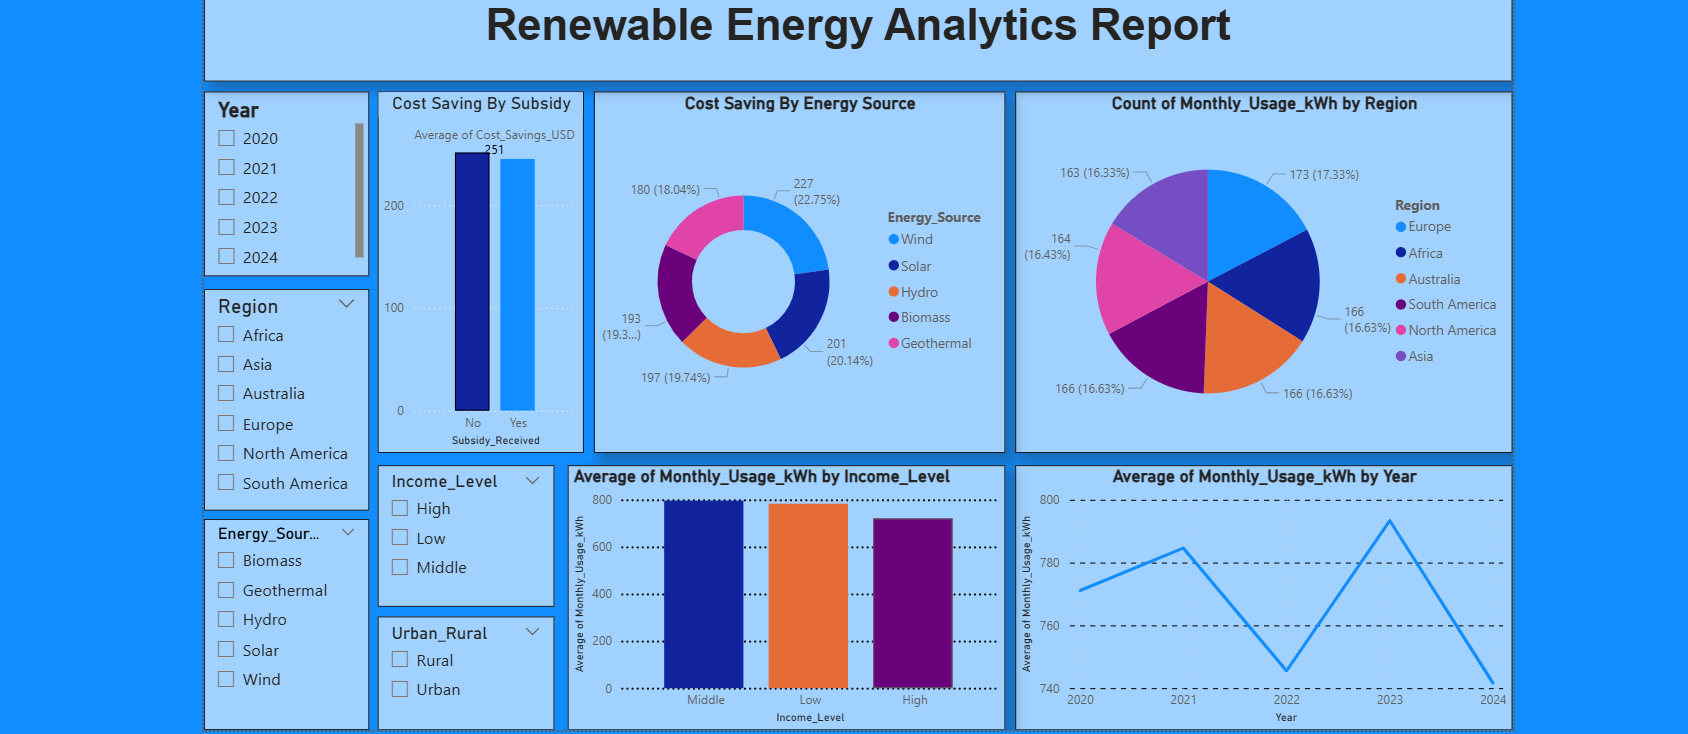

This screenshot's page, from the dashboard's own definition file:
{"tool":"powerbi","page":{"name":"Renewable Enegry Analytics Report","canvas":[1280,720],"ordinal":0},"visuals":[{"type":"slicer","fields":{"Values":["Renewable_Energy_Usage_Sampled.Year"]},"box":[0,95.4,161.4,181],"z":0},{"type":"slicer","fields":{"Values":["Renewable_Energy_Usage_Sampled.Region"]},"box":[0,288.6,161.4,216.4],"z":1000},{"type":"slicer","fields":{"Values":["Renewable_Energy_Usage_Sampled.Energy_Source"]},"box":[0,513.6,161.4,206.7],"z":2000},{"type":"slicer","fields":{"Values":["Renewable_Energy_Usage_Sampled.Income_Level"]},"box":[170,461,172.4,138.2],"z":3000},{"type":"slicer","fields":{"Values":["Renewable_Energy_Usage_Sampled.Urban_Rural"]},"box":[170,609,172.4,111.3],"z":4000},{"type":"pieChart","fields":{"Category":["Renewable_Energy_Usage_Sampled.Region"],"Y":["Count(Renewable_Energy_Usage_Sampled.Monthly_Usage_kWh)"]},"box":[793.6,95.4,486.7,353.4],"z":5000},{"type":"donutChart","title":"Cost Saving By Energy Source","fields":{"Category":["Renewable_Energy_Usage_Sampled.Energy_Source"],"Y":["Count(Renewable_Energy_Usage_Sampled.Cost_Savings_USD)"]},"box":[381.5,95.4,402.3,353.4],"z":6000},{"type":"lineChart","fields":{"Y":["Avg(Renewable_Energy_Usage_Sampled.Monthly_Usage_kWh)"],"Category":["Renewable_Energy_Usage_Sampled.Year"]},"box":[793.6,461,486.7,259.2],"z":7000},{"type":"clusteredColumnChart","fields":{"Category":["Renewable_Energy_Usage_Sampled.Income_Level"],"Y":["Avg(Renewable_Energy_Usage_Sampled.Monthly_Usage_kWh)"]},"box":[355.8,461,428,259.2],"z":8000},{"type":"textbox","box":[0,0,1280.3,85.6],"z":9000},{"type":"columnChart","title":"Cost Saving By Subsidy","fields":{"Category":["Renewable_Energy_Usage_Sampled.Subsidy_Received"],"Y":["Avg(Renewable_Energy_Usage_Sampled.Cost_Savings_USD)"]},"box":[170,95.4,201.8,353.4],"z":10000}]}

Visuals, with their boxes on the page's 1280x720 design canvas (x1, y1, x2, y2). These are canvas units, not pixel positions in the 1688x734 screenshot, which may show the page scaled, cropped or inside an application window:
slicer - Renewable_Energy_Usage_Sampled.Year: [0, 95, 161, 276]
slicer - Renewable_Energy_Usage_Sampled.Region: [0, 289, 161, 505]
slicer - Renewable_Energy_Usage_Sampled.Energy_Source: [0, 514, 161, 720]
slicer - Renewable_Energy_Usage_Sampled.Income_Level: [170, 461, 342, 599]
slicer - Renewable_Energy_Usage_Sampled.Urban_Rural: [170, 609, 342, 720]
pieChart - Renewable_Energy_Usage_Sampled.Region x Count(Renewable_Energy_Usage_Sampled.Monthly_Usage_kWh): [794, 95, 1280, 449]
"Cost Saving By Energy Source" donutChart: [382, 95, 784, 449]
lineChart - Avg(Renewable_Energy_Usage_Sampled.Monthly_Usage_kWh) x Renewable_Energy_Usage_Sampled.Year: [794, 461, 1280, 720]
clusteredColumnChart - Renewable_Energy_Usage_Sampled.Income_Level x Avg(Renewable_Energy_Usage_Sampled.Monthly_Usage_kWh): [356, 461, 784, 720]
textbox: [0, 0, 1280, 86]
"Cost Saving By Subsidy" columnChart: [170, 95, 372, 449]
